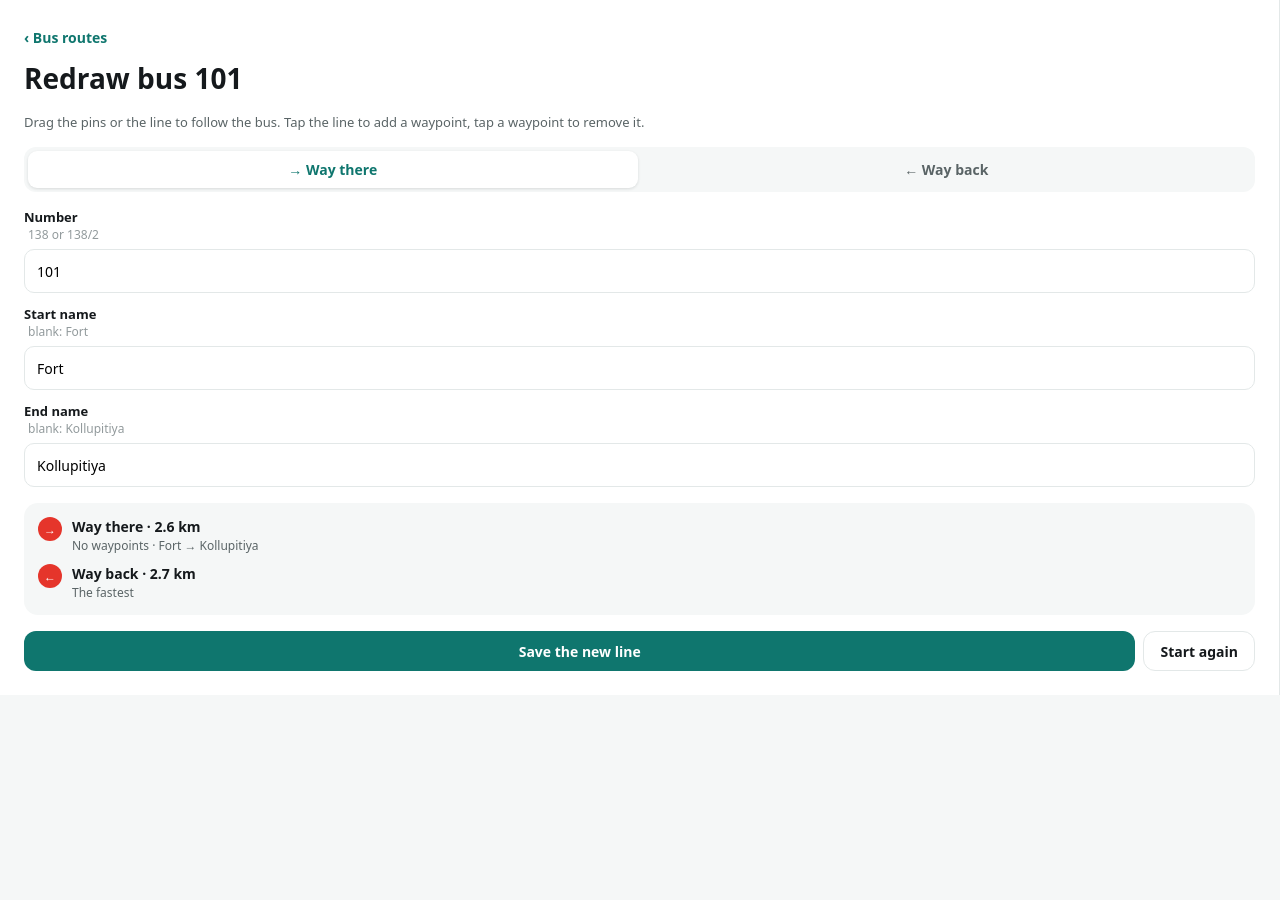
Scenario: drawing a bus route › shapes the way back with waypoints of its own, and resets it to the fastest
Expected: the text "Way there · 2.6 km" is shown, [72,517,201,536]
Expected: the text "Way back · 2.7 km" is shown, [72,564,196,583]
// On the way back, the bus starts at Kollupitiya: the pins swap and the way back is the line to shape
Click the button "← Way back" at [946, 170], box [642,151,1251,188]
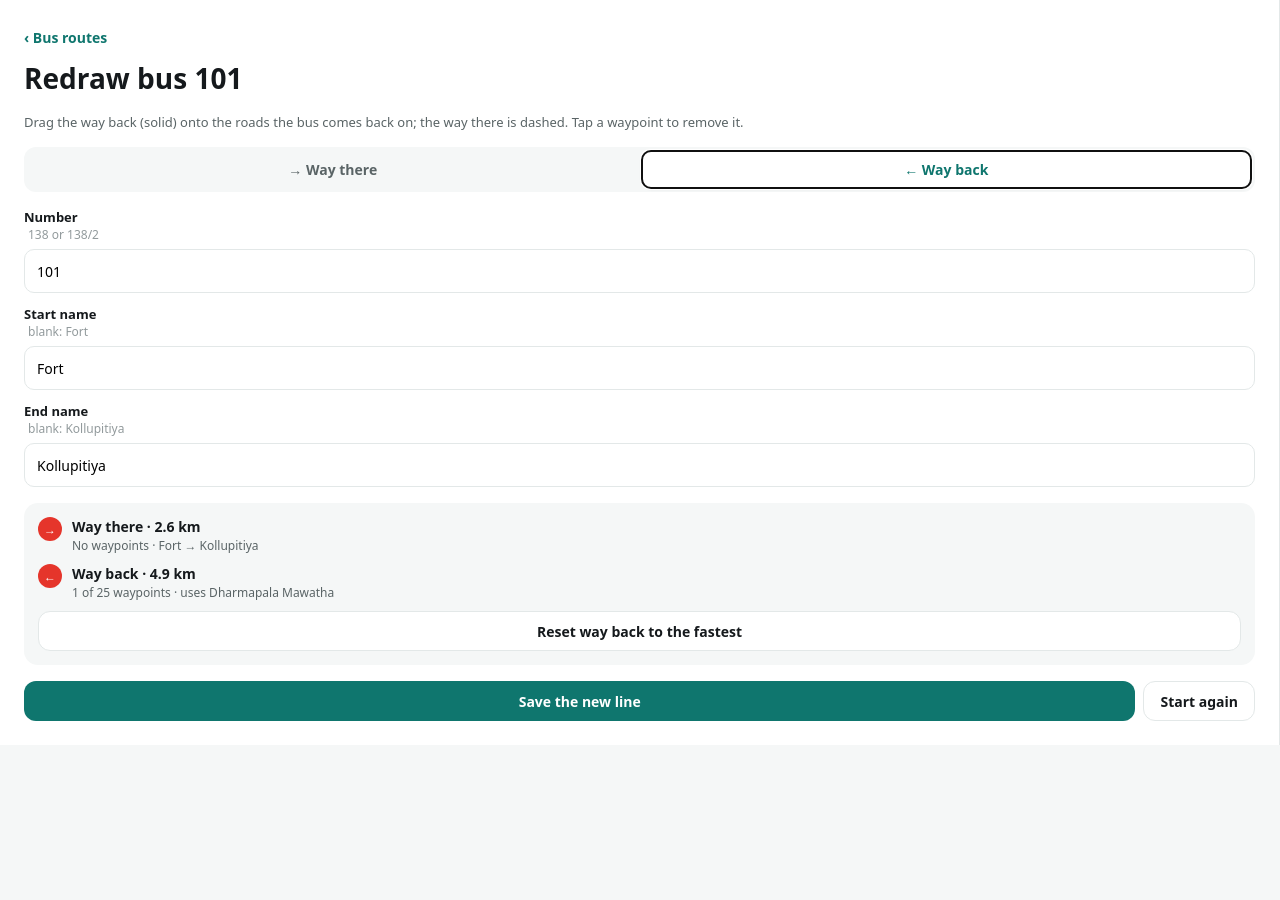
Result: the text "Way back · 4.9 km" is shown at [72,564,196,583]
Result: the text "1 of 25 waypoints · uses Dharmapala Mawatha" is shown at [72,584,334,601]
// The way there keeps its own (no) waypoints
Click the button "→ Way there" at [333, 170], box [28,151,638,188]
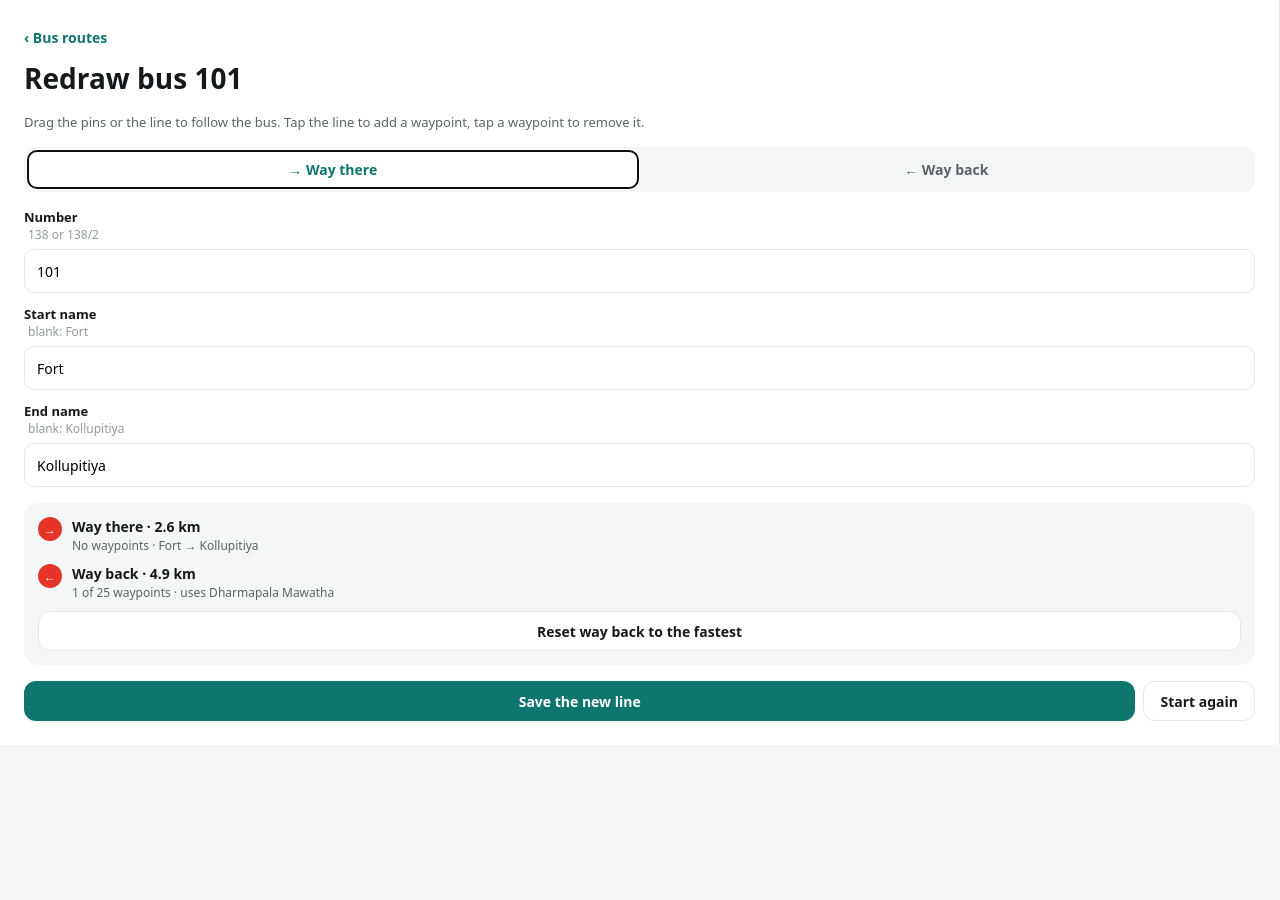
Click the button "Reset way back to the fastest" at [640, 631], box [38,611,1241,651]
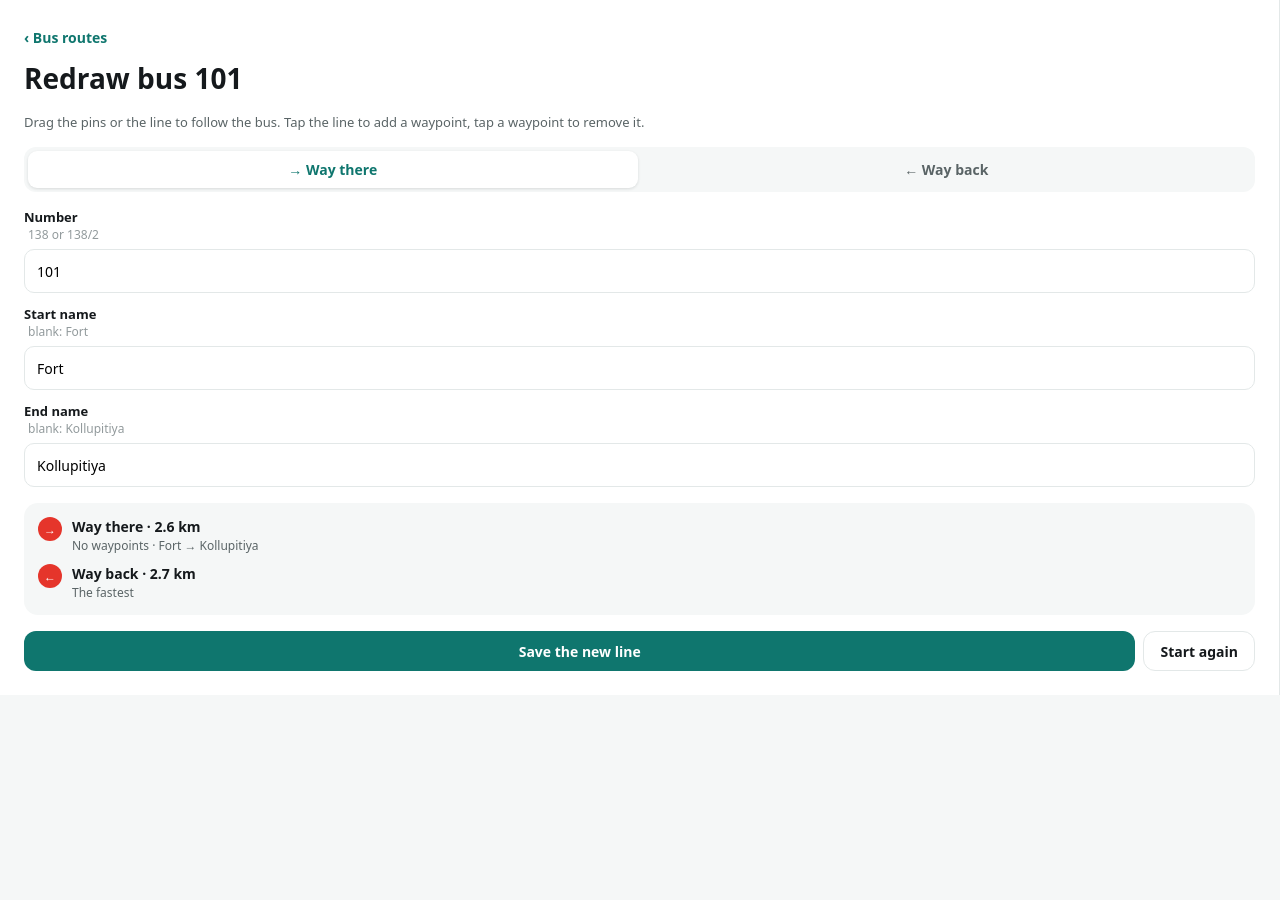
Result: the button "Reset way back to the fastest" is gone
